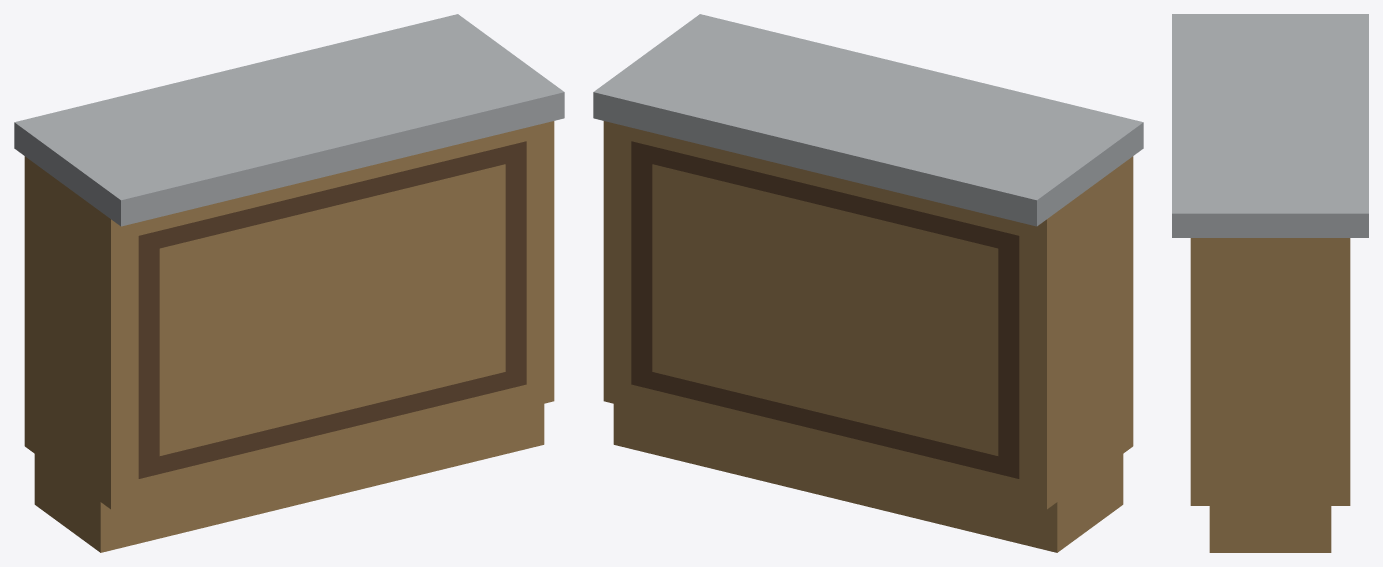
The model's file is breakfast_bar.glb.
3 renders of one model, left to right at view 1: azimuth 30°, elevation 25°; view 2: azimuth 150°, elevation 25°; view 3: azimuth 270°, elevation 25°, orthographic. The views are drawn at different scales.
Visible parts, largest first — view 1: breakfast_bar; view 2: breakfast_bar; view 3: breakfast_bar.
Boxes of the visible parts, left/top/right/bottom form: breakfast_bar: left=14, top=14, right=564, bottom=552; breakfast_bar: left=593, top=14, right=1143, bottom=552; breakfast_bar: left=1172, top=14, right=1368, bottom=552.
Bounding box in the file's own units: 1.2 × 0.95 × 0.5.
